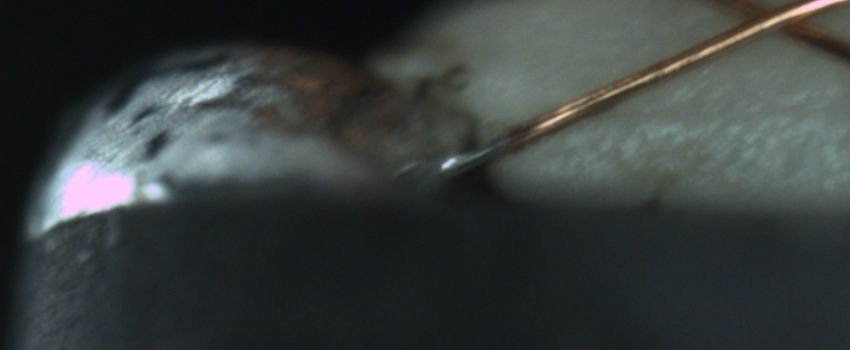CL: (714, 2, 827, 44)
DL: (614, 85, 850, 140)
TS: (431, 133, 506, 180)
